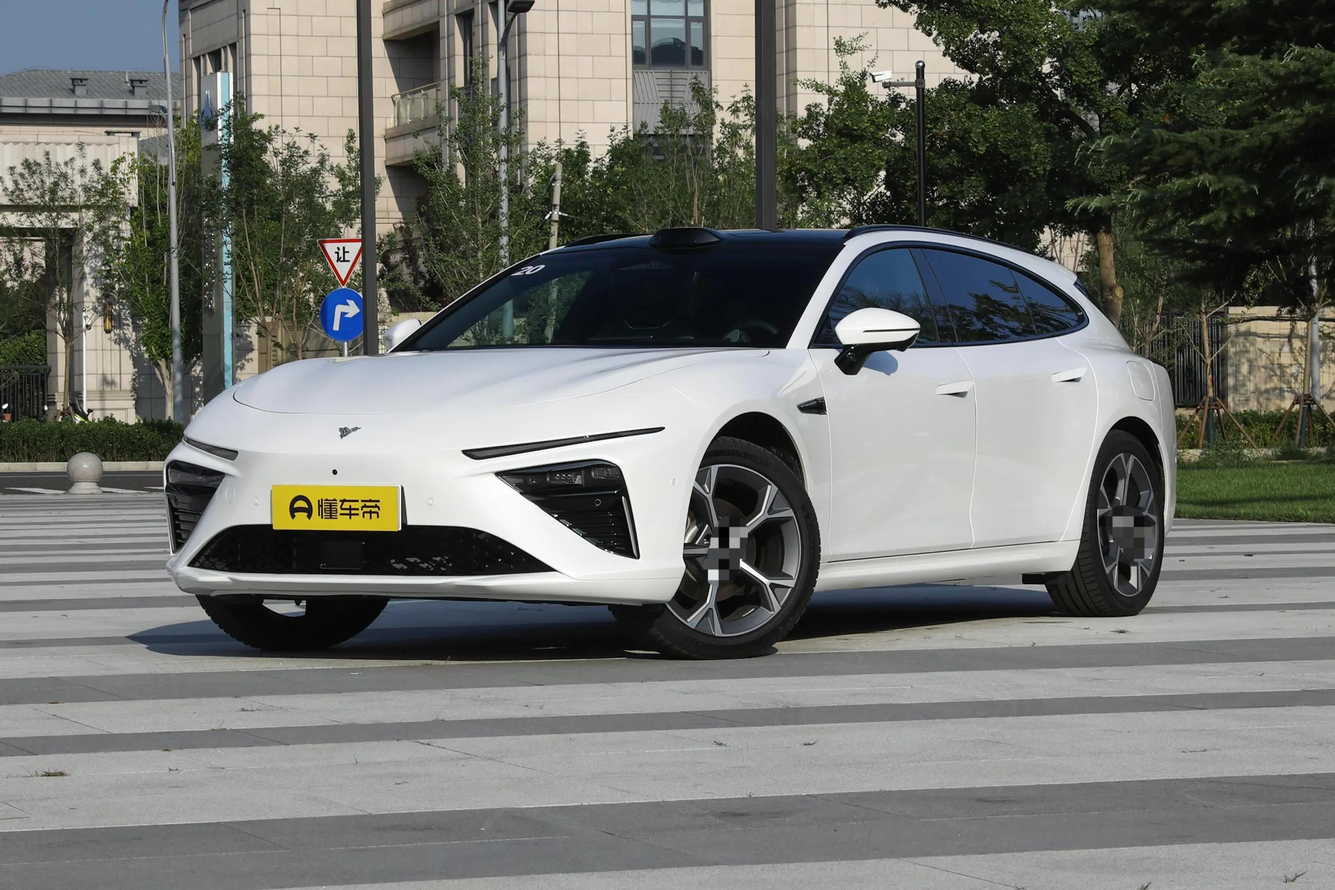NETA: (337, 426, 362, 440)
